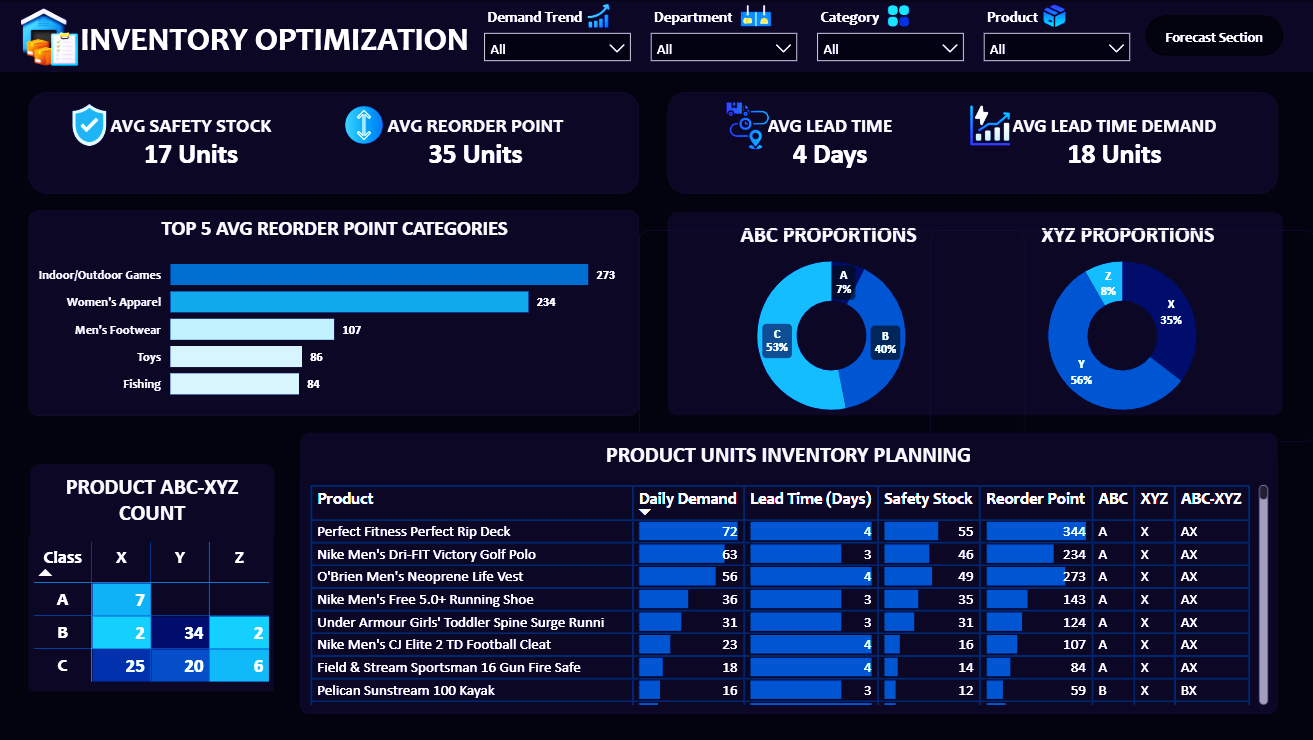

This screenshot's page, from the dashboard's own definition file:
{"tool":"powerbi","page":{"name":"Inventory Optimization","canvas":[1280,720],"ordinal":1},"visuals":[{"type":"shape","box":[0,0,1280.8,720.6],"z":0},{"type":"shape","box":[0,1.6,1280.8,69.6],"z":1000},{"type":"textbox","box":[76.1,13,446.9,53.4],"z":2000},{"type":"cardVisual","fields":{"Data":["all_measures_page_2.Average Safety Stock","all_measures_page_2.Average Reorder Point"]},"box":[30.8,90.7,592.6,98.8],"z":3000},{"type":"cardVisual","fields":{"Data":["all_measures_page_2.Average Lead Time","all_measures_page_2.Average Lead Time Demand"]},"box":[650.9,90.7,592.6,98.8],"z":4000},{"type":"clusteredBarChart","title":"TOP 5 AVG REORDER POINT CATEGORIES","fields":{"Category":["fact_sales.category_name"],"Y":["all_measures_page_2.Average Reorder Point"]},"box":[30.8,205.6,592.6,199.2],"z":5000},{"type":"textbox","box":[650.9,207.3,597.5,197.5],"z":6000},{"type":"donutChart","title":"PRODUCTS ABC CLASS","fields":{"Category":["fact_inventory_analysis.ABC_Class"],"Y":["Divide(all_measures_page_1.Total Products Forecasted, ScopedEval(all_measures_page_1.Total Products Forecasted, []))"]},"box":[623.4,223.5,374,205.6],"z":7000},{"type":"donutChart","title":"PRODUCTS ABC CLASS","fields":{"Category":["fact_inventory_analysis.XYZ_Class"],"Y":["Divide(all_measures_page_1.Total Products Forecasted, ScopedEval(all_measures_page_1.Total Products Forecasted, []))"]},"box":[905.1,223.5,374,205.6],"z":8000},{"type":"pivotTable","fields":{"Rows":["fact_inventory_analysis.ABC_Class"],"Columns":["fact_inventory_analysis.XYZ_Class"],"Values":["all_measures_page_1.Total Products Forecasted"]},"box":[30.8,521.4,238,150.6],"z":9000},{"type":"textbox","box":[31.3,451,237.5,75.5],"z":10000},{"type":"tableEx","title":"PRODUCT UNITS INVENTORY PLANNING","fields":{"Values":["fact_sales.product_name","Avg(fact_inventory_analysis.forecast_daily_demand)","Avg(fact_inventory_analysis.lead_time_days)","Avg(fact_inventory_analysis.safety_stock)","Avg(fact_inventory_analysis.reorder_point)","fact_inventory_analysis.ABC_Class","fact_inventory_analysis.XYZ_Class","fact_inventory_analysis.ABC_XYZ"]},"box":[294.7,438.8,948.9,255.8],"z":11000},{"type":"textbox","box":[294.7,421,948.9,48.6],"z":12000},{"type":"slicer","fields":{"Values":["fact_forecast.demand_trend"]},"box":[463.1,3.2,161.9,71.2],"z":13000},{"type":"slicer","fields":{"Values":["fact_sales.department_name"]},"box":[625,3.2,161.9,71.2],"z":13500},{"type":"slicer","fields":{"Values":["fact_sales.category_name"]},"box":[785.3,3.2,161.9,71.2],"z":13750},{"type":"slicer","fields":{"Values":["fact_sales.product_name"]},"box":[947.2,3.2,161.9,71.2],"z":13875},{"type":"image","box":[22.7,8.1,55.1,56.7],"z":14000},{"type":"image","box":[568.3,4.9,32.4,24.3],"z":15000},{"type":"image","box":[715.7,0,40.5,32.4],"z":16000},{"type":"image","box":[858.2,4.9,32.4,24.3],"z":17000},{"type":"image","box":[1010.4,4.9,32.4,24.3],"z":18000},{"type":"image","box":[66.4,102,45.3,40.5],"z":19000},{"type":"image","box":[291.5,102,129.5,40.5],"z":20000},{"type":"image","box":[655.8,100.4,144.1,45.3],"z":21000},{"type":"image","box":[895.4,103.6,137.6,38.9],"z":22000},{"type":"actionButton","box":[1115.6,16.2,132.8,38.9],"z":23000}]}

Visuals, with their boxes in screenshot pixels (x1, y1, x2, y2), scaled from the page's 1280x720 canvas onto the 1313x740 screenshot:
shape: left=0, top=0, right=1312, bottom=739
shape: left=0, top=2, right=1312, bottom=73
textbox: left=78, top=13, right=536, bottom=68
cardVisual - all_measures_page_2.Average Safety Stock x all_measures_page_2.Average Reorder Point: left=32, top=93, right=639, bottom=195
cardVisual - all_measures_page_2.Average Lead Time x all_measures_page_2.Average Lead Time Demand: left=668, top=93, right=1276, bottom=195
"TOP 5 AVG REORDER POINT CATEGORIES" clusteredBarChart: left=32, top=211, right=639, bottom=416
textbox: left=668, top=213, right=1281, bottom=416
"PRODUCTS ABC CLASS" donutChart: left=639, top=230, right=1023, bottom=441
"PRODUCTS ABC CLASS" donutChart: left=928, top=230, right=1312, bottom=441
pivotTable - fact_inventory_analysis.ABC_Class x fact_inventory_analysis.XYZ_Class: left=32, top=536, right=276, bottom=691
textbox: left=32, top=464, right=276, bottom=541
"PRODUCT UNITS INVENTORY PLANNING" tableEx: left=302, top=451, right=1276, bottom=714
textbox: left=302, top=433, right=1276, bottom=483
slicer - fact_forecast.demand_trend: left=475, top=3, right=641, bottom=76
slicer - fact_sales.department_name: left=641, top=3, right=807, bottom=76
slicer - fact_sales.category_name: left=806, top=3, right=972, bottom=76
slicer - fact_sales.product_name: left=972, top=3, right=1138, bottom=76
image: left=23, top=8, right=80, bottom=67
image: left=583, top=5, right=616, bottom=30
image: left=734, top=0, right=776, bottom=33
image: left=880, top=5, right=914, bottom=30
image: left=1036, top=5, right=1070, bottom=30
image: left=68, top=105, right=115, bottom=146
image: left=299, top=105, right=432, bottom=146
image: left=673, top=103, right=821, bottom=150
image: left=918, top=106, right=1060, bottom=146
actionButton: left=1144, top=17, right=1281, bottom=57
